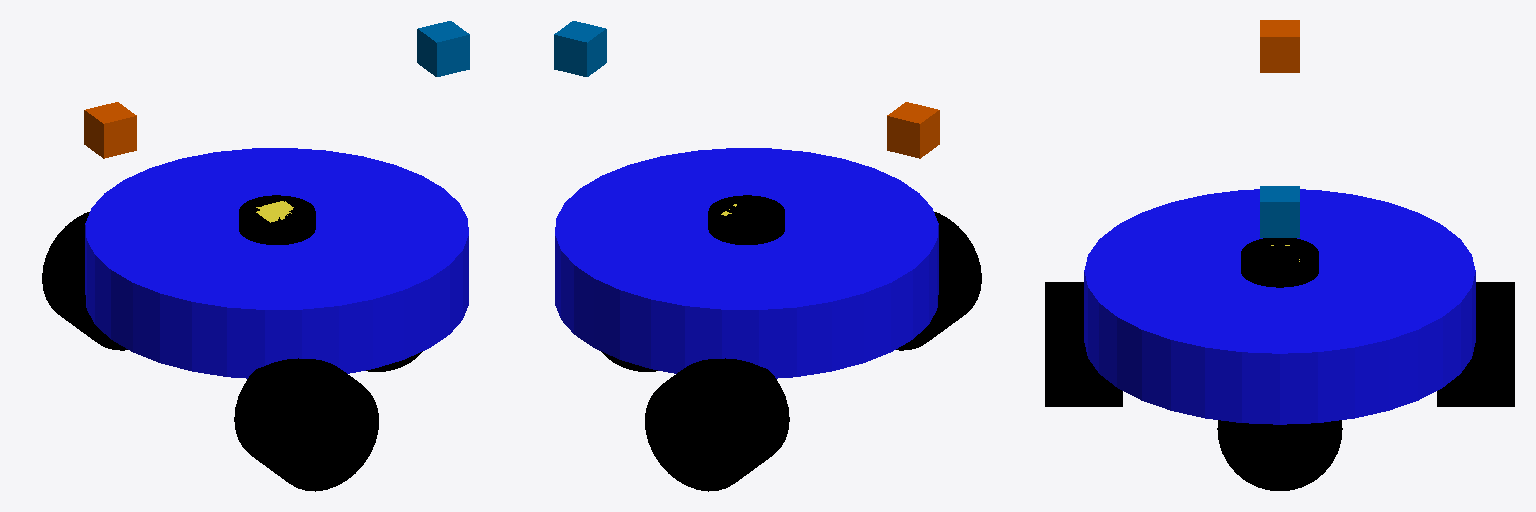
URDF robot description (lio):
<?xml version="1.0"?>
<robot name="lio">


  <!-- Robot Footprint -->
  <!-- <link name="chassis_link"/> -->

  <!-- <joint name="base_link_joint" type="fixed">
    <parent link="chassis_link"/>
    <child link="base_link"/>
    <origin xyz="0.0 0.0 0.0" rpy="0 0 0"/>
  </joint> -->
  <link name="base_footprint"/>

  <joint name="base_joint" type="fixed">
    <parent link="base_footprint"/>
    <child link="base_link"/>
    <origin xyz="0.0 0.0 0.36" rpy="0 0 0"/>
  </joint>

  <!-- base link -->
  <link name="base_link">
  	<visual>
      <origin xyz="0 0 0.0" rpy="0 0 0"/>
      <geometry>
		<cylinder length="0.04" radius="0.10"/>
      </geometry>
      <material name="blue">
      	<color rgba="0.1 0.1 1.0 0.5" /> 
      </material>
    </visual>
    <collision>
      <origin xyz="0 0 0.0" rpy="0 0 0"/>
      <geometry>
		<cylinder length="0.12" radius="0.10"/>
      </geometry>
      <material name="blue">
      	<color rgba="0.1 0.1 1.0 0.5" /> 
      </material>
    </collision>
    <inertial>
      <mass value="0.1"/>
      <inertia ixx="0.0122666" ixy="0" ixz="0" iyy="0.0122666" iyz="0" izz="0.02"/>
    </inertial>
  </link>
    
  <!-- laser link -->
  <link name="velodyne">
    <visual>
      <origin xyz="0 0 0" rpy="0 0 0"/>
      <geometry>
        <cylinder length="0.02" radius="0.02"/>
      </geometry>
      <material name="black">
        <color rgba="0.0 0.0 0.0 0.5" /> 
      </material>
    </visual>
    <collision>
      <origin xyz="0 0 0" rpy="0 0 0"/>
      <geometry>
        <cylinder length="0.02" radius="0.02"/>
      </geometry>
      <material name="black">
        <color rgba="0.0 0.0 0.0 0.5" /> 
      </material>
    </collision>
    <inertial>
    <mass value="0.1"/>
      <inertia ixx="0.000190416666667" ixy="0" ixz="0" iyy="0.0001904" iyz="0" izz="0.00036"/>
    </inertial>
  </link>
  
  <!-- laser joint -->
  <joint name="lidar_joint" type="fixed">
      <parent link="base_link" />
      <child link="velodyne" />
      <origin xyz="0 0 0.02" />
  </joint>

  <link name="imu_link">
  	<visual>
      <origin xyz="0 0 0.0" rpy="0 0 0"/>
      <geometry>
		    <box size="0.02 0.02 0.02"/>
      </geometry>
    </visual>
    <collision>
      <origin xyz="0 0 0.0" rpy="0 0 0"/>
      <geometry>
		    <box size="0.02 0.02 0.02"/>
      </geometry>
    </collision>
    <inertial>
      <mass value="0.1"/>
        <inertia ixx="0.000190416666667" ixy="0" ixz="0" iyy="0.0001904" iyz="0" izz="0.00036"/>
      </inertial>
  </link>

  <!-- imu joint -->
  <joint name="imu_joint" type="fixed">
      <parent link="base_link" />
      <child link="imu_link" />
      <origin xyz="0 0 0.02" />
  </joint>

  <link name="navsat_link">
  	<visual>
      <origin xyz="0 0 0.0" rpy="0 0 0"/>
      <geometry>
		    <box size="0.02 0.02 0.02"/>
      </geometry>
    </visual>
    <collision>
      <origin xyz="0 0 0.0" rpy="0 0 0"/>
      <geometry>
		    <box size="0.02 0.02 0.02"/>
      </geometry>
    </collision>
    <inertial>
      <mass value="0.1"/>
        <inertia ixx="0.000190416666667" ixy="0" ixz="0" iyy="0.0001904" iyz="0" izz="0.00036"/>
      </inertial>
  </link>

  <joint name="navsat_joint" type="fixed">
      <parent link="base_link" />
      <child link="navsat_link" />
      <origin xyz="0.1 0 0.1" />
  </joint>

  <link name="gps_link">
  	<visual>
      <origin xyz="0 0 0.0" rpy="0 0 0"/>
      <geometry>
		    <box size="0.02 0.02 0.02"/>
      </geometry>
    </visual>
    <collision>
      <origin xyz="0 0 0.0" rpy="0 0 0"/>
      <geometry>
		    <box size="0.02 0.02 0.02"/>
      </geometry>
    </collision>
    <inertial>
      <mass value="0.1"/>
        <inertia ixx="0.000190416666667" ixy="0" ixz="0" iyy="0.0001904" iyz="0" izz="0.00036"/>
      </inertial>
  </link>

  <joint name="gps_joint" type="fixed">
      <parent link="base_link" />
      <child link="gps_link" />
      <origin xyz="-0.1 0 0.1" />
  </joint>


  <link name="left_wheel_link">
      <visual>
        <origin xyz="0 0 0" rpy="1.57079 0 0"/>
        <geometry>
          <cylinder length="0.04" radius="0.032"/>
        </geometry>
          <material name="black">
            <color rgba="0.0 0.0 0.0 0.5" /> 
          </material>
      </visual>
      <collision>
        <origin xyz="0 0 0" rpy="1.57079 0 0"/>
        <geometry>
          <cylinder length="0.04" radius="0.032"/>
        </geometry>
          <material name="black">
            <color rgba="0.0 0.0 0.0 0.5" /> 
          </material>
      </collision>
      <inertial>
        <mass value="0.2"/>
          <inertia ixx="0.000190416666667" ixy="0" ixz="0" iyy="0.0001904" iyz="0" izz="0.00036"/>
        </inertial>
  </link>
    
  <link name="right_wheel_link">
      <visual>
        <origin xyz="0 0 0" rpy="1.57079 0 0"/>
        <geometry>
          <cylinder length="0.04" radius="0.032"/>
        </geometry>
          <material name="black">
            <color rgba="0.0 0.0 0.0 0.5" /> 
          </material>
      </visual>
      <collision>
        <origin xyz="0 0 0" rpy="1.57079 0 0"/>
        <geometry>
          <cylinder length="0.04" radius="0.032"/>
        </geometry>
          <material name="black">
            <color rgba="0.0 0.0 0.0 0.5" /> 
          </material>
      </collision>
      <inertial>
      <mass value="0.2"/>
      <inertia ixx="0.000190416666667" ixy="0" ixz="0" iyy="0.0001904" iyz="0" izz="0.00036"/>
    </inertial>
  </link>
    
  <joint name="left_wheel_joint" type="continuous">
      <parent link="base_link" />
      <child link="left_wheel_link" />
      <origin xyz="-0.04 0.10 -0.04" />
      <axis xyz="0 1 0" />
  </joint>

  <joint name="right_wheel_joint" type="continuous">
      <parent link="base_link" />
      <child link="right_wheel_link" />
      <origin xyz="-0.04 -0.10 -0.04" />
      <axis xyz="0 1 0" />
  </joint>

  <link name="caster_link">
      <visual>
        <origin xyz="0 0 0" rpy="1.57079 0 0"/>
        <geometry>
            <sphere radius="0.032"/>
        </geometry>
          <material name="black">
            <color rgba="0.0 0.0 0.0 0.5" /> 
          </material>
      </visual>
      <collision>
        <origin xyz="0 0 0" rpy="1.57079 0 0"/>
        <geometry>
            <sphere radius="0.032"/>
        </geometry>
          <material name="black">
            <color rgba="0.0 0.0 0.0 0.5" /> 
          </material>
      </collision>
      <inertial>
      <mass value="0.02"/>
      <inertia ixx="0.000190416666667" ixy="0" ixz="0" iyy="0.0001904" iyz="0" izz="0.00036"/>
    </inertial>
  </link>
    
  <joint name="caster_joint" type="fixed">
      <parent link="base_link" />
      <child link="caster_link" />
      <origin xyz="0.06 0.0 -0.041" />
      <axis xyz="0 1 0" />
  </joint>



  <gazebo reference="caster_link">
    <material>Gazebo/Black</material>
  </gazebo>

  <gazebo reference="caster_link">
    <mu1 value="0.0"/>
    <mu2 value="0.0"/>
    <kp value="1000000.0" />
    <kd value="10.0" />
  </gazebo>


  <gazebo>
    <plugin name='diff_drive' filename='libgazebo_ros_diff_drive.so'>
          <ros>
            <namespace>/</namespace>
            <remapping>cmd_vel:=cmd_vel</remapping>
            <!-- <remapping>odom:=/lio_sam/imu/odometry</remapping> -->
            <remapping>odom:=/odom</remapping>
          </ros>
          <update_rate>500</update_rate>
          <!-- wheels -->
          <left_joint>left_wheel_joint</left_joint>
          <right_joint>right_wheel_joint</right_joint>
          <!-- kinematics -->
          <wheel_separation>0.2</wheel_separation>
          <wheel_diameter>0.065</wheel_diameter>
          <!-- limits -->
          <max_wheel_torque>60</max_wheel_torque>
          <max_wheel_acceleration>3.0</max_wheel_acceleration>
          <!-- output -->
          <publish_odom>true</publish_odom>
          <publish_odom_tf>false</publish_odom_tf>
          <publish_wheel_tf>false</publish_wheel_tf>
          <odometry_frame>odom</odometry_frame>
          <robot_base_frame>base_link</robot_base_frame>
      </plugin>
    </gazebo> 

    <gazebo reference="imu_link">
      <sensor name="imu_sensor" type="imu">
      <plugin filename="libgazebo_ros_imu_sensor.so" name="imu_plugin">
          <ros>
            <namespace>/</namespace>
            <remapping>~/out:=/imu</remapping>
          </ros>
          <initial_orientation_as_reference>false</initial_orientation_as_reference>
        </plugin>
        <always_on>true</always_on>
        <update_rate>500</update_rate>
        <visualize>true</visualize>
        <imu>
          <angular_velocity>
            <x>
              <noise type="gaussian">
                <mean>0.0</mean>
                <stddev>2e-4</stddev>
                <bias_mean>0.0000075</bias_mean>
                <bias_stddev>0.0000008</bias_stddev>
              </noise>
            </x>
            <y>
              <noise type="gaussian">
                <mean>0.0</mean>
                <stddev>2e-4</stddev>
                <bias_mean>0.0000075</bias_mean>
                <bias_stddev>0.0000008</bias_stddev>
              </noise>
            </y>
            <z>
              <noise type="gaussian">
                <mean>0.0</mean>
                <stddev>2e-4</stddev>
                <bias_mean>0.0000075</bias_mean>
                <bias_stddev>0.0000008</bias_stddev>
              </noise>
            </z>
          </angular_velocity>
          <linear_acceleration>
            <x>
              <noise type="gaussian">
                <mean>0.0</mean>
                <stddev>1.7e-2</stddev>
                <bias_mean>0.1</bias_mean>
                <bias_stddev>0.001</bias_stddev>
              </noise>
            </x>
            <y>
              <noise type="gaussian">
                <mean>0.0</mean>
                <stddev>1.7e-2</stddev>
                <bias_mean>0.1</bias_mean>
                <bias_stddev>0.001</bias_stddev>
              </noise>
            </y>
            <z>
              <noise type="gaussian">
                <mean>0.0</mean>
                <stddev>1.7e-2</stddev>
                <bias_mean>0.1</bias_mean>
                <bias_stddev>0.001</bias_stddev>
              </noise>
            </z>
          </linear_acceleration>
        </imu>
      </sensor>
    </gazebo>

  <gazebo reference="velodyne">
      <sensor name="laser_sensor" type="ray">
      <always_on>true</always_on>
      <visualize>false</visualize>
      <update_rate>10</update_rate>
      <pose>0 0 0.05 0 0 0</pose>
      <ray>
          <scan>
            <horizontal>
              <samples>60</samples>
              <resolution>1.000000</resolution>
              <min_angle>0.000000</min_angle>
              <max_angle>6.280000</max_angle>
            </horizontal>
            <vertical>
              <samples>16</samples>
              <resolution>1.000000</resolution>
              <min_angle>0.000000</min_angle>
              <max_angle>0.400000</max_angle>
            </vertical>
          </scan>
          <range>
            <min>0.120000</min>
            <max>40.5</max>
            <resolution>0.015000</resolution>
          </range>
          <noise>
            <type>gaussian</type>
            <mean>0.0</mean>
            <stddev>0.01</stddev>
          </noise>
      </ray>

      <plugin name="my_ray_sensor_plugin" filename="libgazebo_ros_ray_sensor.so">
        <ros>
          <namespace>/ray</namespace>
          <remapping>~/out:=/points_raw</remapping>
        </ros>
        <output_type>sensor_msgs/PointCloud2</output_type>
        <min_intensity>100.0</min_intensity>
        <frame_name>velodyne</frame_name>
      </plugin>
      </sensor>
    </gazebo>

  <gazebo reference="navsat_link">
      <sensor name="my_gps" type="gps">
      <!-- ensure the sensor is active (required) -->
          <always_on>true</always_on>
          <update_rate>10</update_rate>
          <plugin name="my_gps_plugin" filename="libgazebo_ros_gps_sensor.so">
            <ros>
              <!-- publish to /gps/data -->
              <namespace>/gps1</namespace>
              <remapping>~/out:=/gps/fix</remapping>
            </ros>
        </plugin>
      </sensor>
    </gazebo>

  <gazebo reference="gps_link">
      <sensor name="my_gpss" type="gps">
          <always_on>true</always_on>
          <update_rate>10</update_rate>
          <plugin name="my_gps_plugins" filename="libgazebo_ros_gps_sensor.so">
            <ros>
              <namespace>/gps2</namespace>
              <remapping>~/out:=/gps/fix2</remapping>
            </ros>
        </plugin>
      </sensor>
    </gazebo>

</robot>

--- What the picture shows (computed from the rendered views, not written in the file) ---
Views: 3 orthographic renders of the robot side by side, from view 1: azimuth 30°, elevation 25°; view 2: azimuth 150°, elevation 25°; view 3: azimuth 270°, elevation 25°.
Model lio with 9 links and 8 joints (2 continuous, 6 fixed), rooted at base_footprint, posed every joint at zero.
Links seen in each view (by area): view 1: base_link, right_wheel_link, left_wheel_link, velodyne, gps_link, navsat_link; view 2: base_link, left_wheel_link, right_wheel_link, velodyne, gps_link, navsat_link; view 3: base_link, caster_link, left_wheel_link, right_wheel_link, velodyne, gps_link, navsat_link.
Link boxes in pixels (box(x1,y1,x2,y2)): base_link: box(85, 148, 468, 378); right_wheel_link: box(234, 358, 378, 491); left_wheel_link: box(42, 212, 127, 350); velodyne: box(239, 195, 315, 244); gps_link: box(84, 102, 136, 158); navsat_link: box(417, 21, 469, 76); base_link: box(555, 148, 938, 378); left_wheel_link: box(645, 358, 789, 491); right_wheel_link: box(896, 212, 981, 350); velodyne: box(708, 195, 784, 244); gps_link: box(887, 102, 939, 158); navsat_link: box(554, 21, 606, 76); base_link: box(1084, 189, 1475, 424); caster_link: box(1217, 420, 1342, 490); left_wheel_link: box(1437, 282, 1514, 406); right_wheel_link: box(1045, 282, 1122, 406); velodyne: box(1241, 238, 1318, 287); gps_link: box(1260, 20, 1299, 72); navsat_link: box(1260, 186, 1299, 237).
Bounding box of the posed robot: 0.22 × 0.24 × 0.183 m (x, y, z).
Geometry: primitives only (box / cylinder / sphere), no mesh files.
